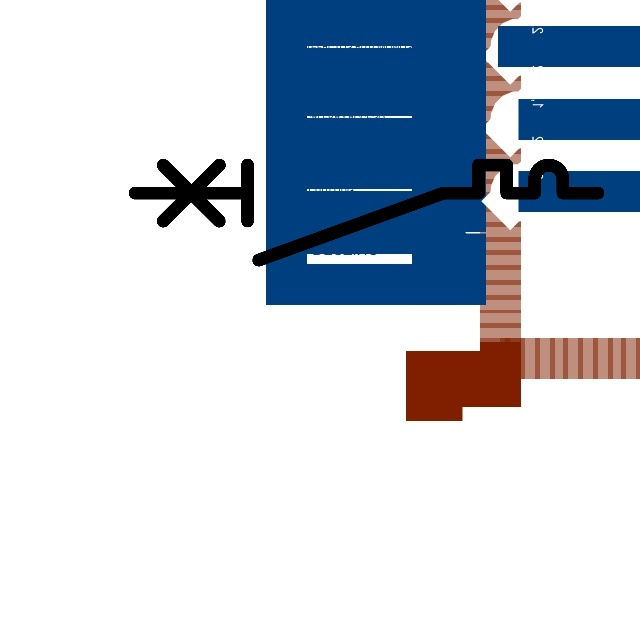interruptor_termomagnetico: (123, 153, 610, 272)
